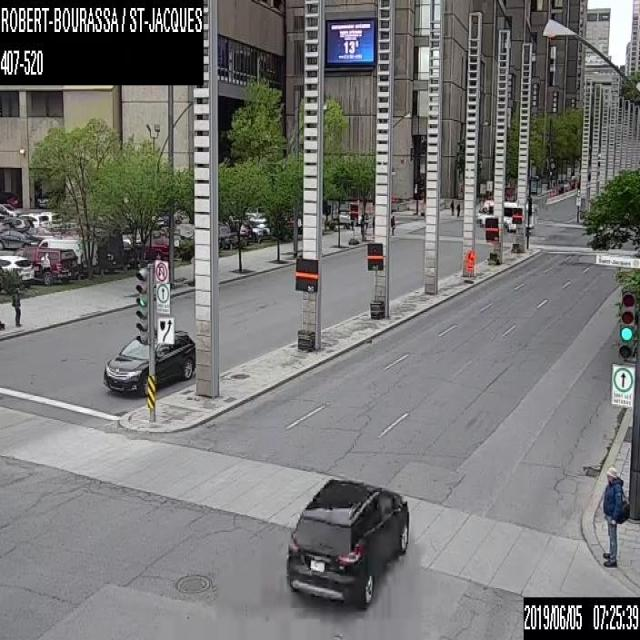construction: (464, 248, 474, 280)
pedestrian: (601, 466, 627, 566), (10, 281, 22, 327), (390, 212, 395, 235), (449, 199, 454, 215), (455, 201, 460, 217)
vehicle: (284, 474, 410, 610), (103, 326, 194, 391), (35, 236, 96, 278), (13, 245, 77, 284), (475, 198, 535, 232), (81, 228, 123, 275), (0, 255, 33, 288), (141, 234, 169, 259), (0, 229, 30, 248), (1, 216, 34, 233), (16, 214, 48, 228), (36, 190, 62, 207), (39, 210, 63, 226), (0, 190, 20, 207), (0, 202, 21, 217)
